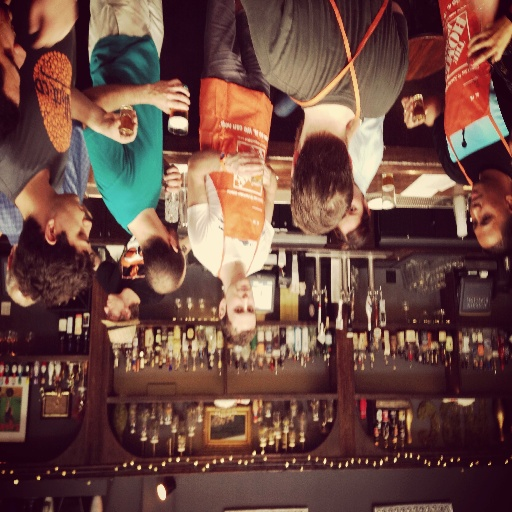hand: (28, 0, 78, 51), (465, 19, 511, 69), (98, 107, 137, 145), (152, 78, 189, 114), (225, 151, 265, 176), (400, 94, 427, 129), (161, 163, 181, 194), (254, 163, 275, 184)
